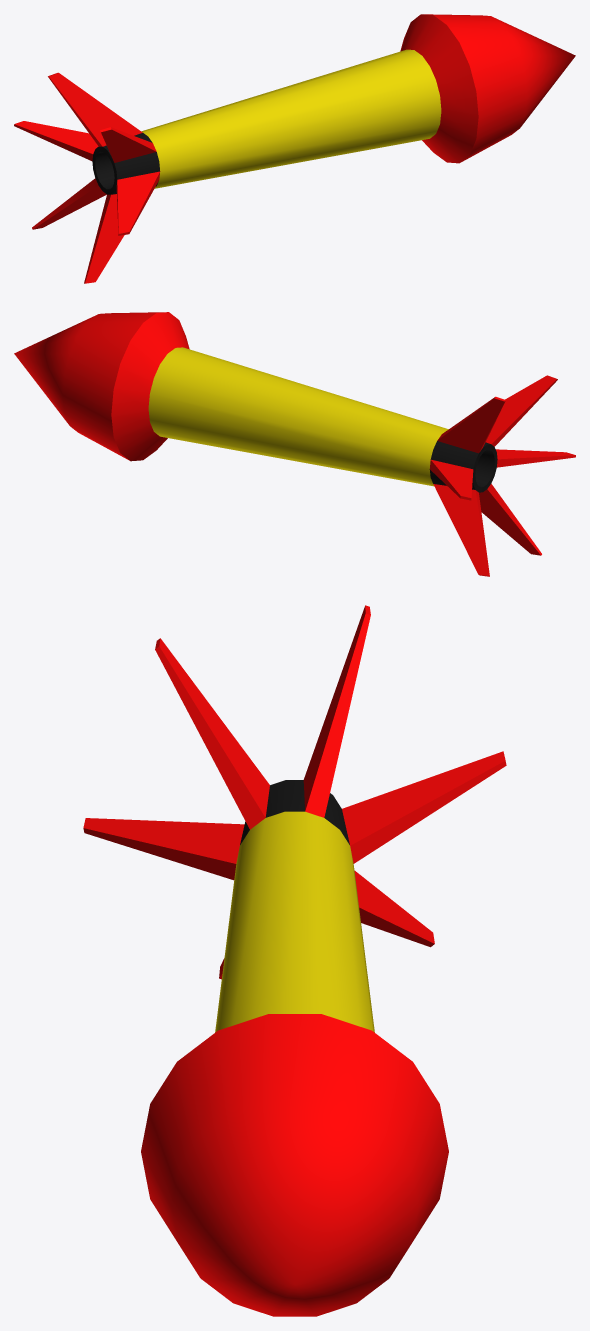
The model's file is rocket.FBX.
3 views of the same model, one above another, from view 1: azimuth 30°, elevation 25°; view 2: azimuth 150°, elevation 25°; view 3: azimuth 270°, elevation 25° (orthographic). The views are drawn at different scales.
Visible parts, largest first — view 1: rocket; view 2: rocket; view 3: rocket.
Part boxes in pixels (x1,y1,x2,y2): rocket: (14, 14, 575, 283); rocket: (14, 312, 575, 576); rocket: (83, 605, 506, 1316).
Bounding box in the file's own units: 16.15 × 5.55 × 5.81.
